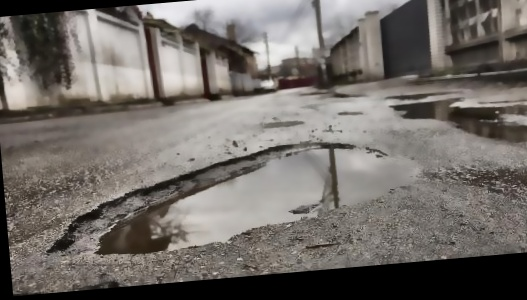pothole: (42, 130, 426, 263)
